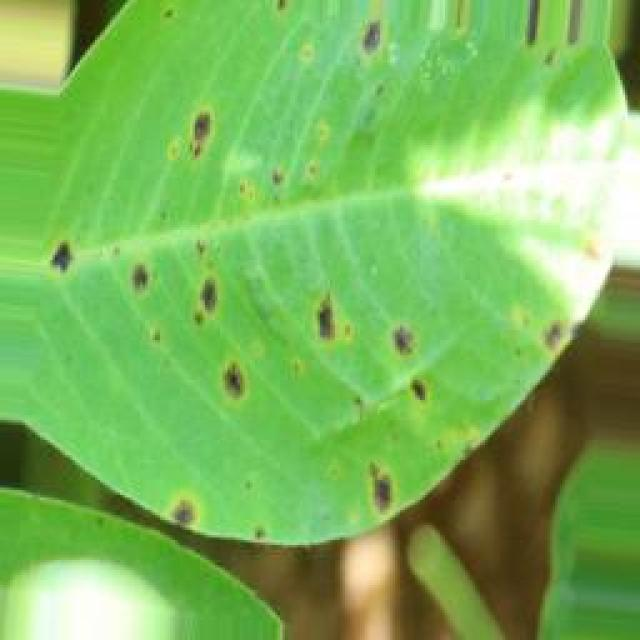Sigatoka: (367, 308, 447, 412), (500, 0, 607, 60), (501, 296, 583, 366), (282, 290, 360, 362), (350, 16, 414, 94), (157, 88, 229, 156), (187, 342, 251, 412), (337, 450, 408, 512), (252, 160, 330, 208), (173, 263, 225, 328), (38, 219, 90, 283), (120, 249, 160, 314), (161, 486, 205, 538), (262, 0, 304, 41)
